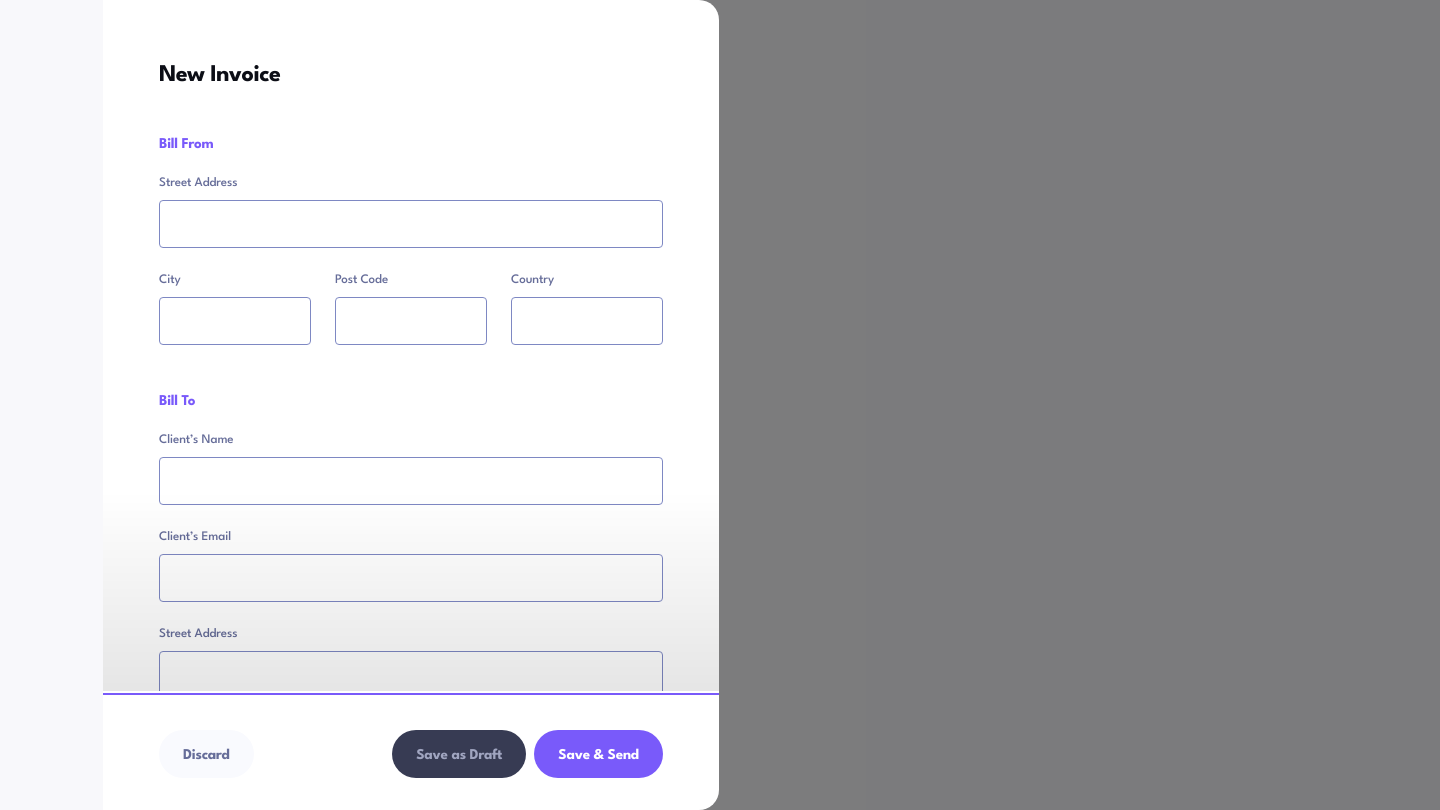
rejecting an incomplete invoice › names the problem instead of saving
This screenshot has width=1440, height=810.
Click the button "Save & Send" at (599, 754), box [534,730,663,778]
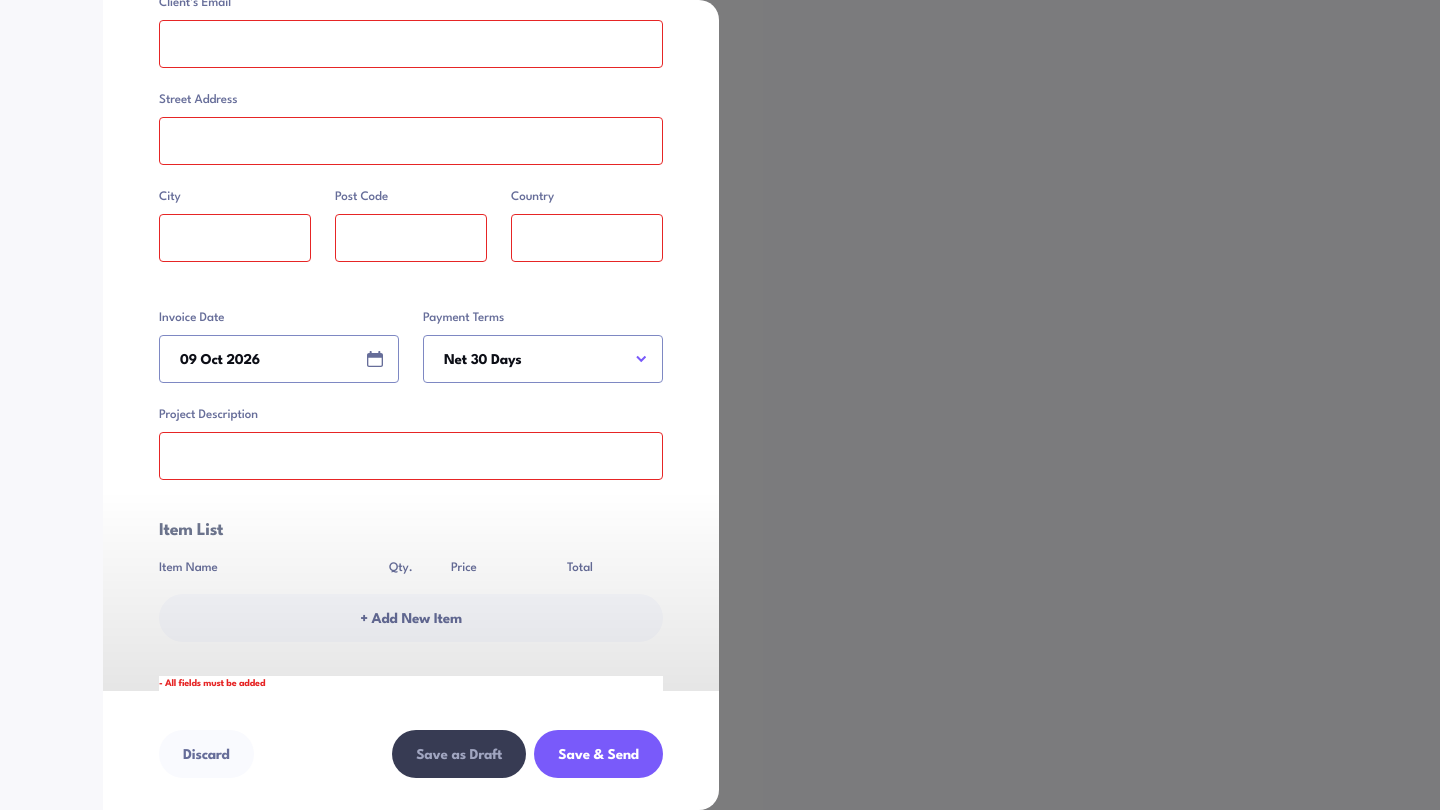
expect the text "- All fields must be added" is shown: met, box [159,679,265,688]
